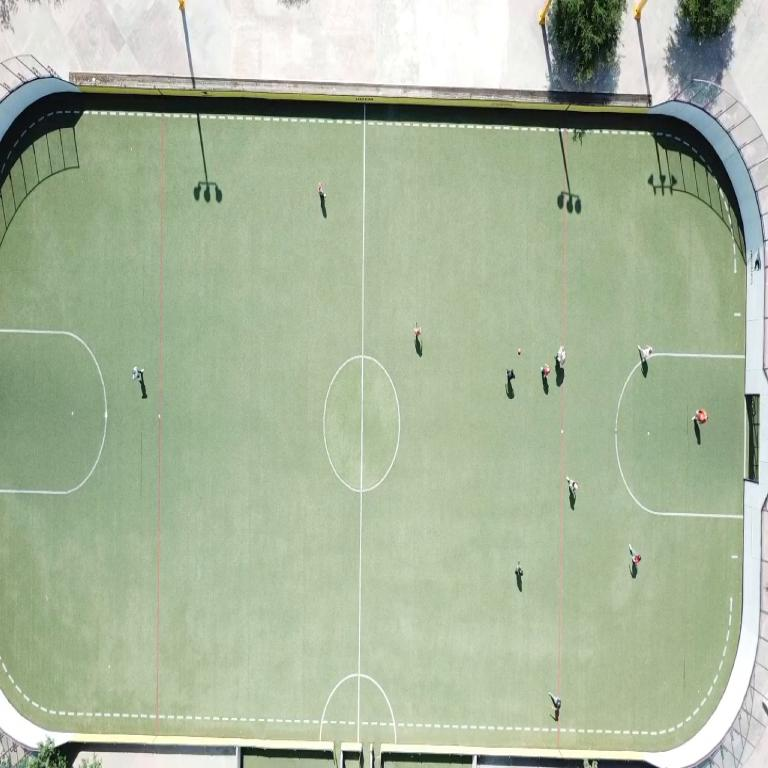AC: (615, 361, 742, 519), (0, 329, 107, 494)
B: (517, 348, 521, 354)
MC: (356, 105, 365, 741)
P: (549, 693, 561, 719), (629, 544, 641, 567), (514, 561, 523, 591), (566, 477, 578, 497), (692, 409, 708, 424), (638, 345, 652, 362), (556, 346, 566, 367), (132, 367, 143, 380), (541, 365, 550, 377), (507, 370, 514, 385), (414, 325, 421, 339), (319, 183, 325, 198)
